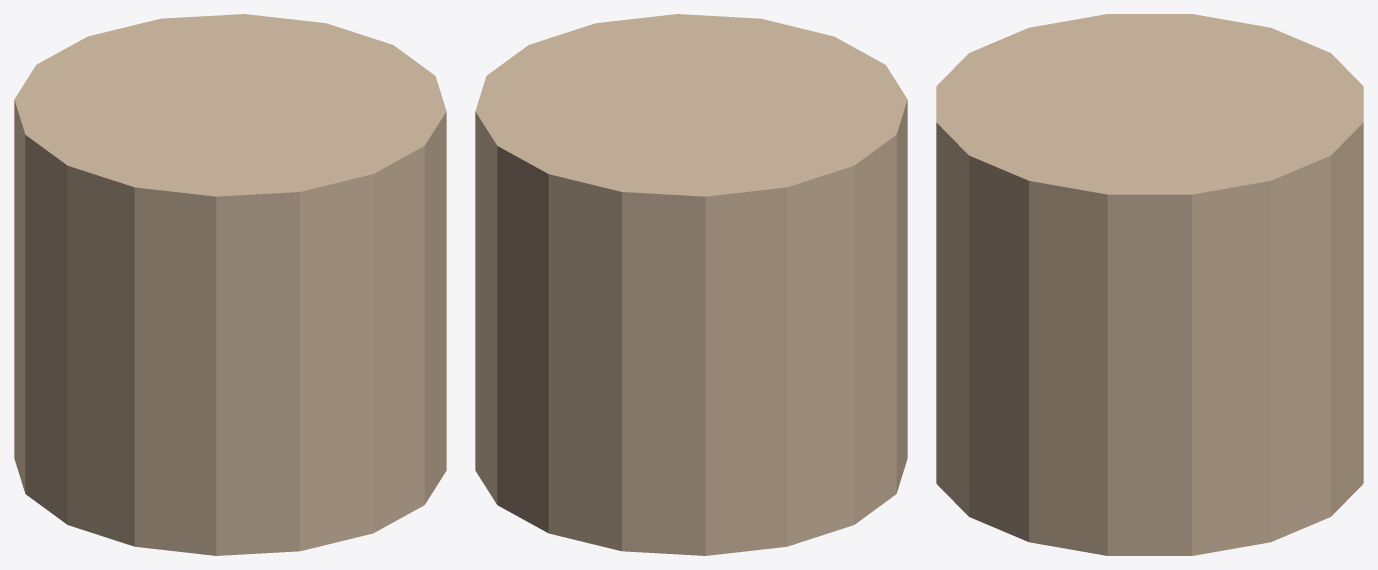
File: hamal_cargo_module_s1_1_ex_collider.obj
The picture shows the model from 3 angles, left to right: view 1: azimuth 30°, elevation 25°; view 2: azimuth 150°, elevation 25°; view 3: azimuth 270°, elevation 25°; orthographic projection.
Visible parts, largest first — view 1: collider; view 2: collider; view 3: collider.
Part boxes in pixels (box(x1,y1,x2,y2)): collider: box(14, 14, 446, 555); collider: box(475, 14, 907, 555); collider: box(936, 14, 1363, 555).
Size of the model in its own units: 1.88 by 1.75 by 1.88.
